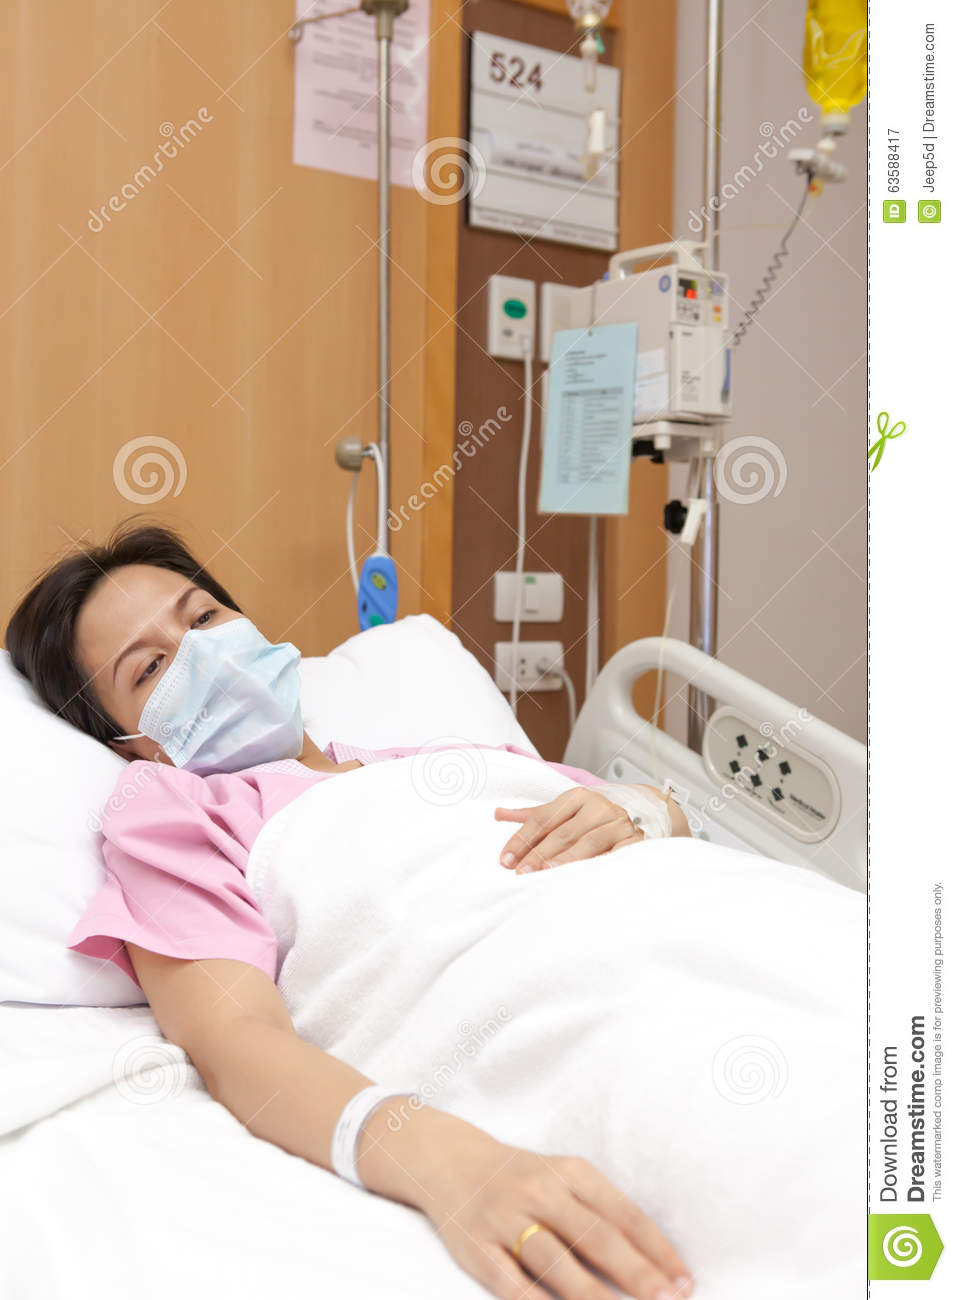mask: (132, 613, 313, 765)
